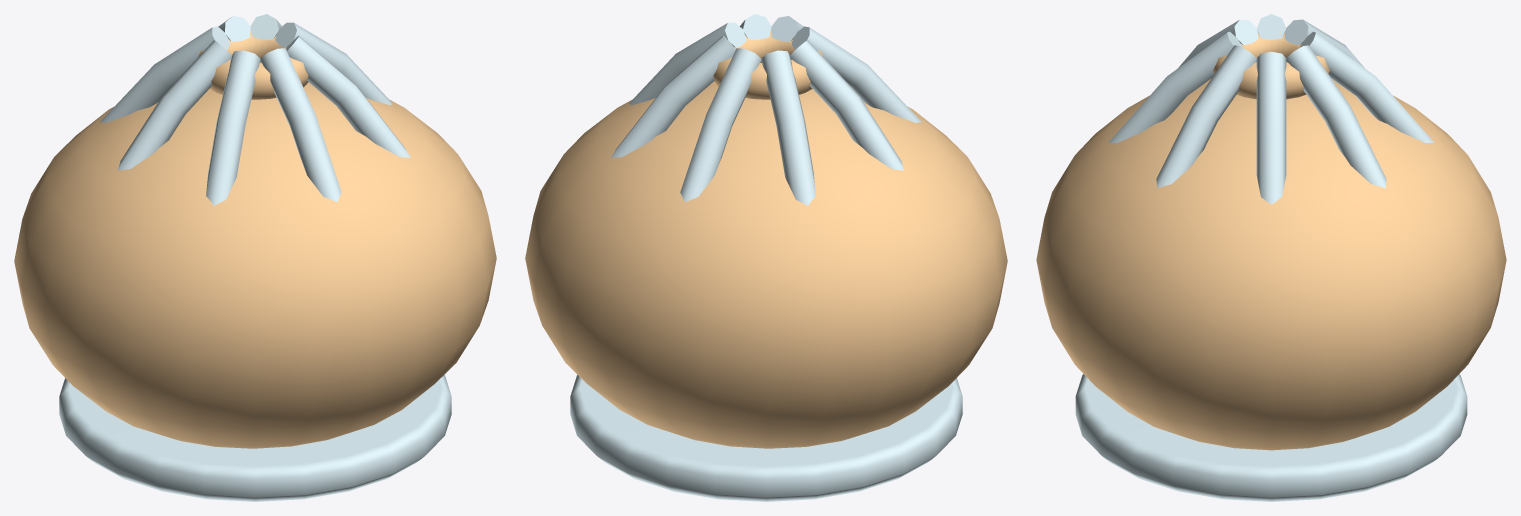
Rendered from dumpling.glb.
3 views of the same model, side by side, from view 1: azimuth 30°, elevation 25°; view 2: azimuth 150°, elevation 25°; view 3: azimuth 270°, elevation 25° (orthographic).
Parts seen in each view (by area): view 1: dumpling; view 2: dumpling; view 3: dumpling.
Boxes of the visible parts, left/top/right/bottom form: dumpling: left=14, top=14, right=496, bottom=501; dumpling: left=525, top=14, right=1007, bottom=501; dumpling: left=1036, top=14, right=1506, bottom=501.
Size of the model in its own units: 1 by 0.8868 by 0.9677.
Materials: 1 (1 with a texture image).
